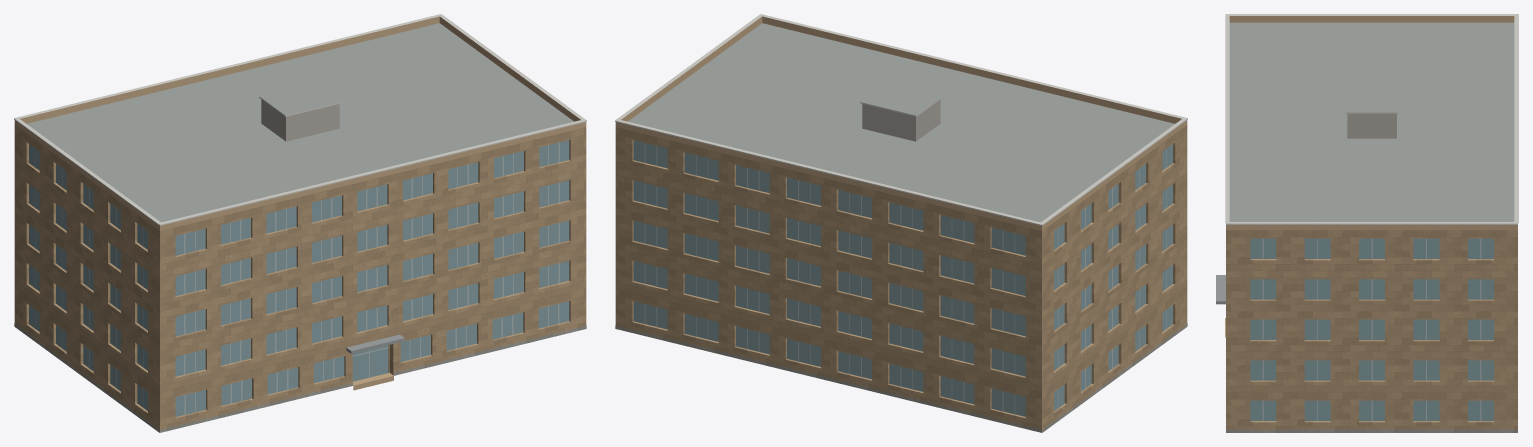
The picture shows the model from 3 angles, left to right: view 1: azimuth 30°, elevation 25°; view 2: azimuth 150°, elevation 25°; view 3: azimuth 270°, elevation 25°; orthographic projection.
Parts seen in each view (by area): view 1: w14__wall, w14__roof, w14__glass, w14__parapet, w14__trim, w14__frame, w14__base, w14__wall2; view 2: w14__wall, w14__roof, w14__glass, w14__parapet, w14__trim, w14__frame, w14__base, w14__wall2; view 3: w14__roof, w14__wall, w14__glass, w14__parapet, w14__trim, w14__wall2, w14__base, w14__frame, w14__canopy.
Part boxes in pixels (bbox=[...]): w14__wall: bbox=[14, 125, 586, 432]; w14__roof: bbox=[27, 23, 573, 222]; w14__glass: bbox=[29, 140, 569, 416]; w14__parapet: bbox=[14, 16, 586, 231]; w14__trim: bbox=[14, 14, 586, 225]; w14__frame: bbox=[35, 142, 559, 414]; w14__base: bbox=[14, 323, 586, 432]; w14__wall2: bbox=[261, 99, 339, 141]; w14__wall: bbox=[615, 125, 1187, 432]; w14__roof: bbox=[628, 23, 1174, 432]; w14__glass: bbox=[633, 140, 1172, 416]; w14__parapet: bbox=[615, 16, 1187, 231]; w14__trim: bbox=[615, 14, 1187, 225]; w14__frame: bbox=[644, 143, 1166, 414]; w14__base: bbox=[615, 323, 1187, 432]; w14__wall2: bbox=[862, 99, 940, 141]; w14__roof: bbox=[1229, 22, 1514, 221]; w14__wall: bbox=[1226, 230, 1517, 429]; w14__glass: bbox=[1250, 238, 1493, 420]; w14__parapet: bbox=[1226, 16, 1517, 230]; w14__trim: bbox=[1225, 14, 1518, 224]; w14__wall2: bbox=[1347, 113, 1396, 138]; w14__base: bbox=[1226, 429, 1517, 432]; w14__frame: bbox=[1262, 238, 1481, 421]; w14__canopy: bbox=[1216, 275, 1225, 304].
Size of the model in its own units: 39.99 by 20.8 by 24.38.
11 materials, 2 textured.
